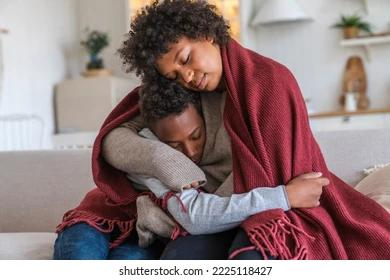blanket: (55, 35, 390, 260)
sweater: (100, 91, 235, 247), (125, 126, 291, 237)
trousers: (158, 226, 281, 261), (53, 222, 155, 260)
